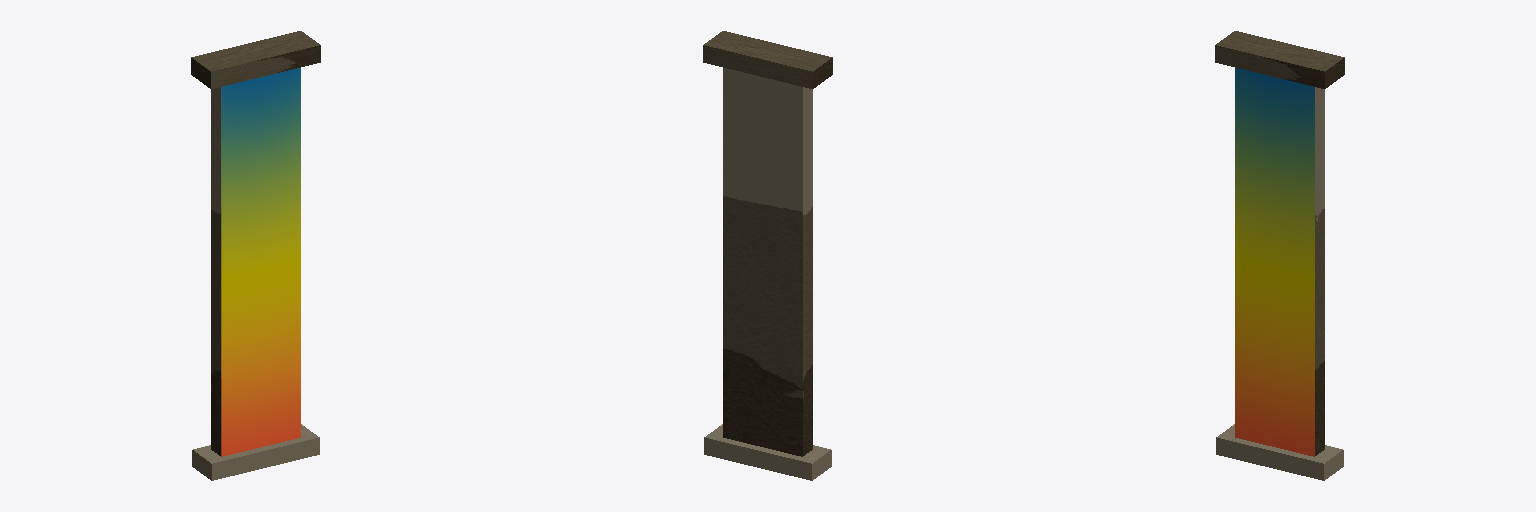
3 views of the same model, side by side, from view 1: azimuth 30°, elevation 25°; view 2: azimuth 150°, elevation 25°; view 3: azimuth 330°, elevation 25° (orthographic).
Visible parts, largest first — view 1: 立方体.002; view 2: 立方体.002; view 3: 立方体.002.
Part boxes in pixels (bbox=[...]): 立方体.002: bbox=[191, 31, 320, 480]; 立方体.002: bbox=[703, 31, 832, 480]; 立方体.002: bbox=[1215, 31, 1344, 480].
Size of the model in its own units: 1.01 by 3.6 by 0.3144.
Materials: 1 (1 with a texture image).